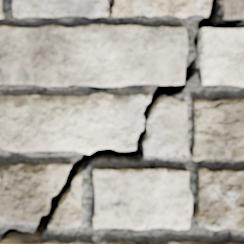brick: (0, 25, 186, 85), (93, 169, 191, 228), (194, 169, 243, 229), (200, 28, 243, 85), (192, 120, 243, 159), (13, 0, 107, 17), (113, 0, 210, 16), (194, 99, 243, 123), (221, 0, 243, 17), (163, 242, 209, 243), (221, 98, 236, 101), (0, 0, 2, 17), (108, 242, 133, 243), (43, 242, 62, 243), (69, 242, 87, 243), (223, 242, 236, 243)
broken_brick: (0, 92, 149, 153), (0, 163, 71, 223), (145, 97, 189, 157), (49, 175, 83, 229)
crack: (0, 0, 241, 243), (195, 98, 239, 111), (194, 115, 243, 126), (174, 148, 186, 157), (104, 6, 108, 12)
